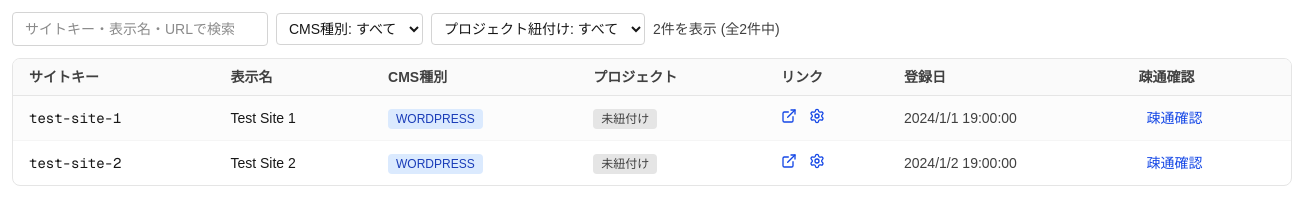
Test: SiteListTable › リンク列(issue #1529) › 公開URLの一部で検索すると、そのサイトだけに絞り込まれる
In the field with placeholder "サイトキー・表示名・URLで検索": {"x": 140, "y": 29} [12,12,268,46], type "test1"
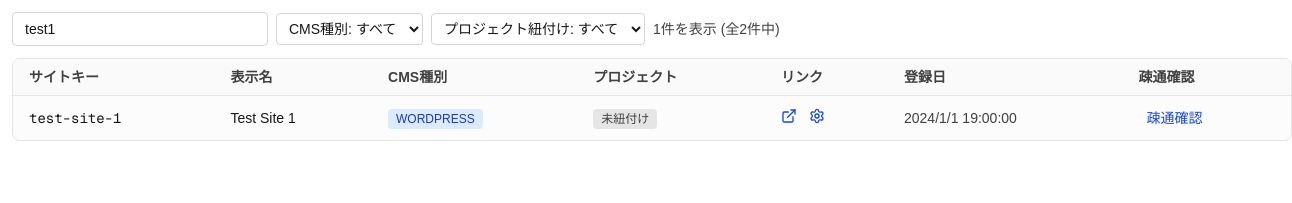
Expected: the text "Test Site 1" is shown, [214,96,372,140]
Expected: the text "Test Site 2" is gone
